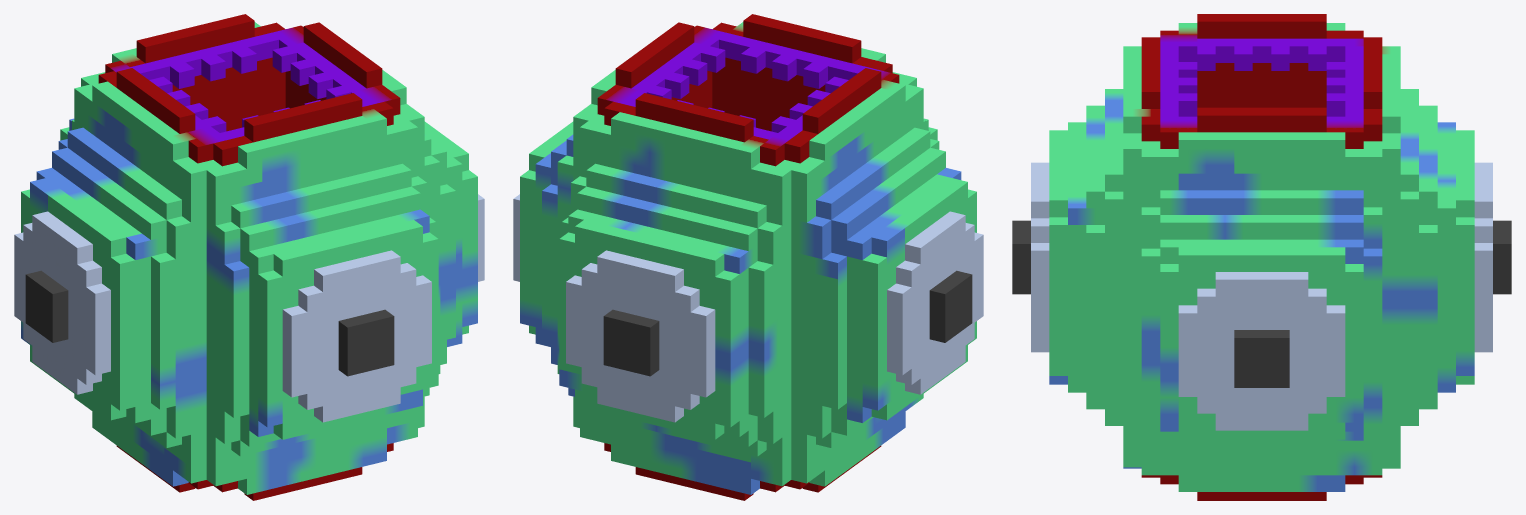
The model's file is minimon_confusing.dae.
3 views of the same model, side by side, from view 1: azimuth 30°, elevation 25°; view 2: azimuth 150°, elevation 25°; view 3: azimuth 270°, elevation 25° (orthographic). The views are drawn at different scales.
Visible parts, largest first — view 1: monster_confusing; view 2: monster_confusing; view 3: monster_confusing.
Boxes of the visible parts, x1,y1,x2,y2 form: monster_confusing: [14, 14, 484, 500]; monster_confusing: [513, 14, 983, 500]; monster_confusing: [1012, 14, 1511, 500].
Size of the model in its own units: 27 by 23 by 27.
Materials: 1 (1 with a texture image).
